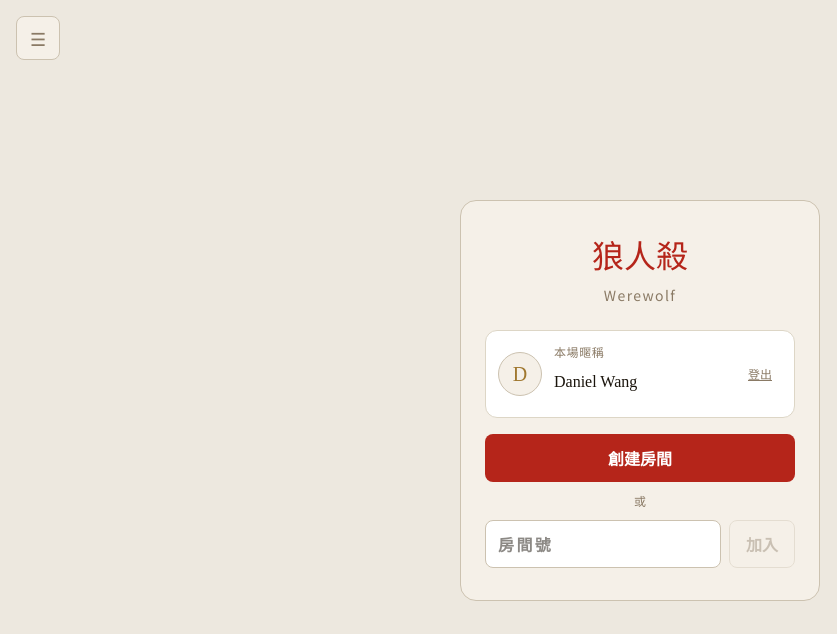
Scenario: LobbyView OAuth UI › shows the backend join reason (Room not found)
Type "123" into the field with test id "room-code-input".
click(603, 544); type("123")  # box [485,520,721,568]
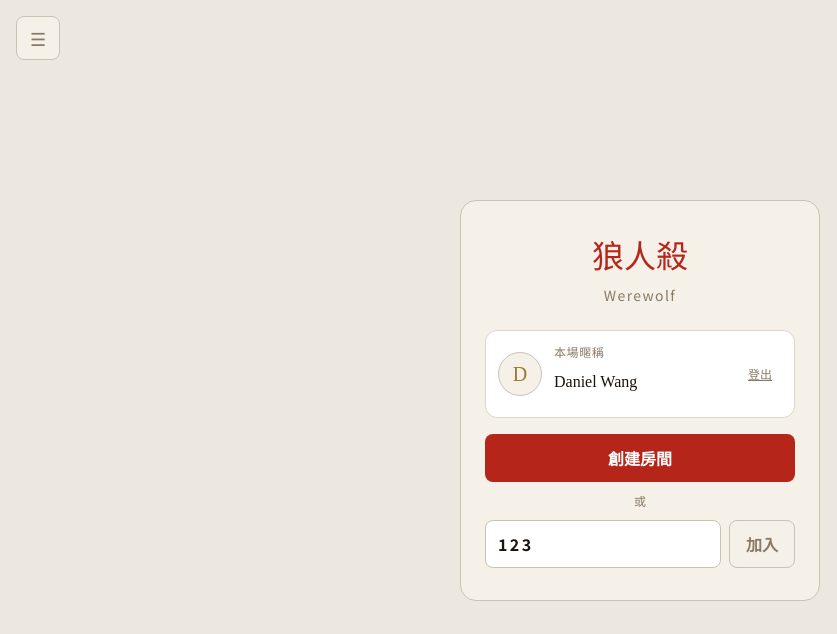
Click the button with test id "join-room-btn".
click(762, 544)  # box [729,520,795,568]
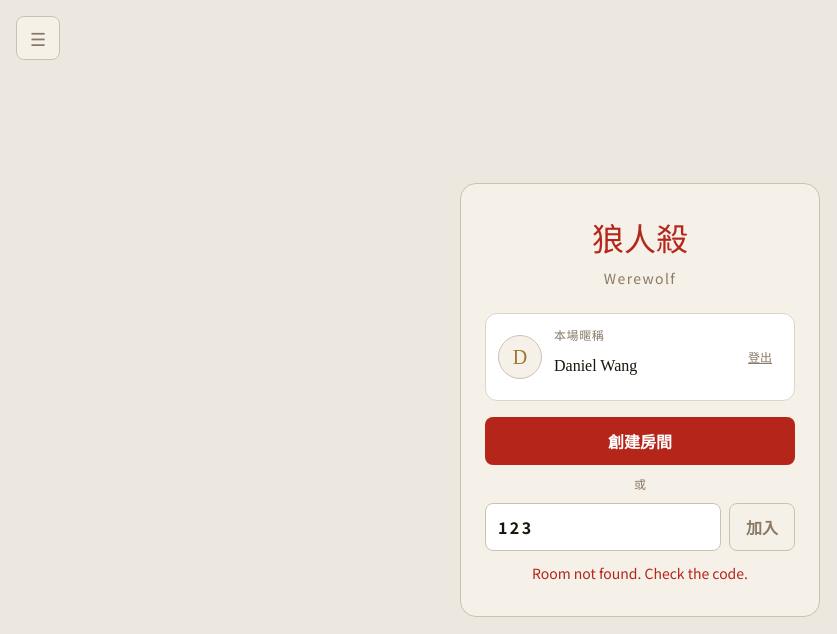
Now the text with test id "lobby-error" reads "Room not found. Check the code.", box [532,563,748,583]
